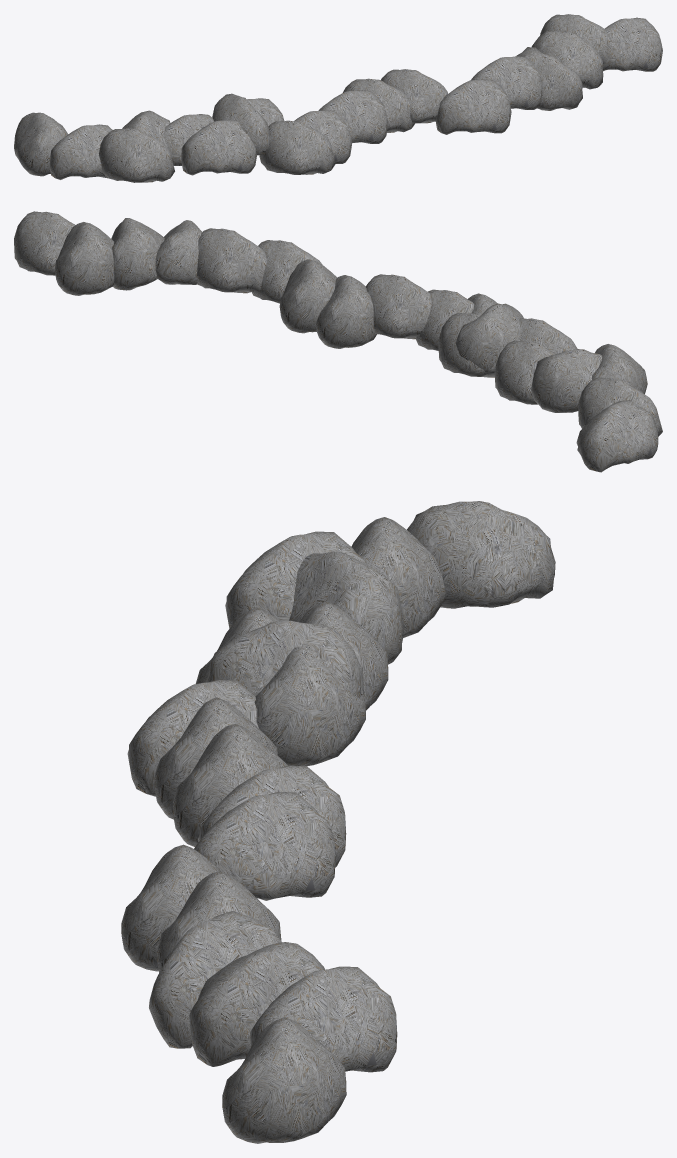
The model's file is RocksFront.fbx.
The picture shows the model from 3 angles, top to bottom: view 1: azimuth 30°, elevation 25°; view 2: azimuth 150°, elevation 25°; view 3: azimuth 270°, elevation 25°; orthographic projection. The views are drawn at different scales.
Parts seen in each view (by area): view 1: polySurface224; view 2: polySurface224; view 3: polySurface224.
Boxes of the visible parts, x1,y1,x2,y2 form: polySurface224: (14,14,662,182); polySurface224: (14,211,662,472); polySurface224: (121,501,555,1143).
Bounding box in the file's own units: 539 × 57.37 × 171.
